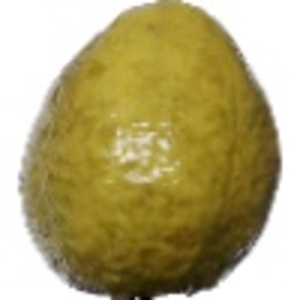goiaba: (14, 5, 290, 294)
